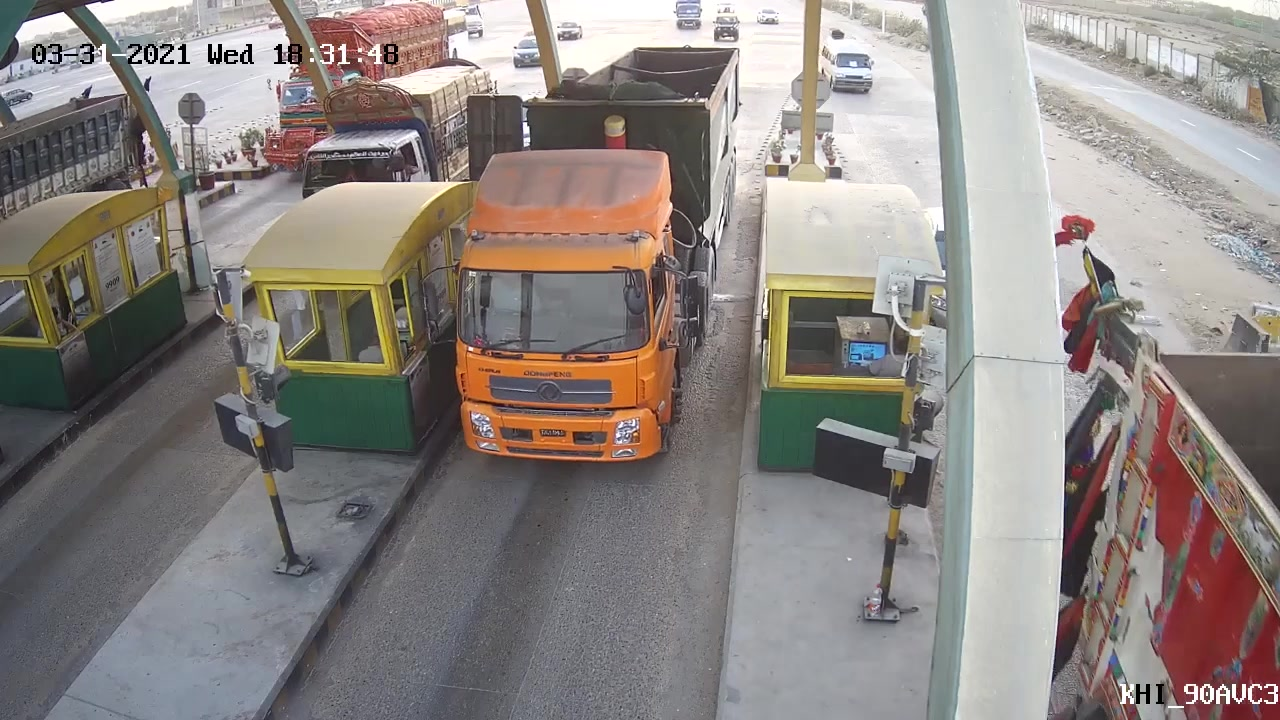F5: (417, 109, 732, 468)
